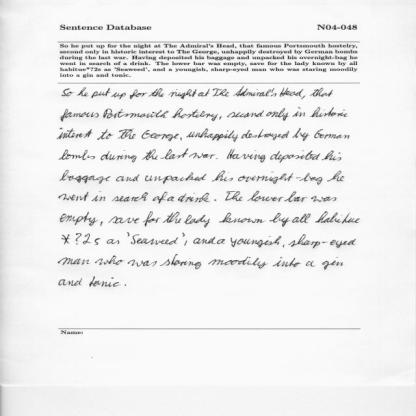Handwritten text: (52, 224, 362, 253), (56, 127, 358, 148), (45, 210, 370, 229), (48, 106, 356, 126), (60, 167, 351, 188), (45, 147, 349, 167), (47, 190, 349, 210), (58, 83, 339, 104), (46, 257, 352, 274), (46, 273, 129, 290)
